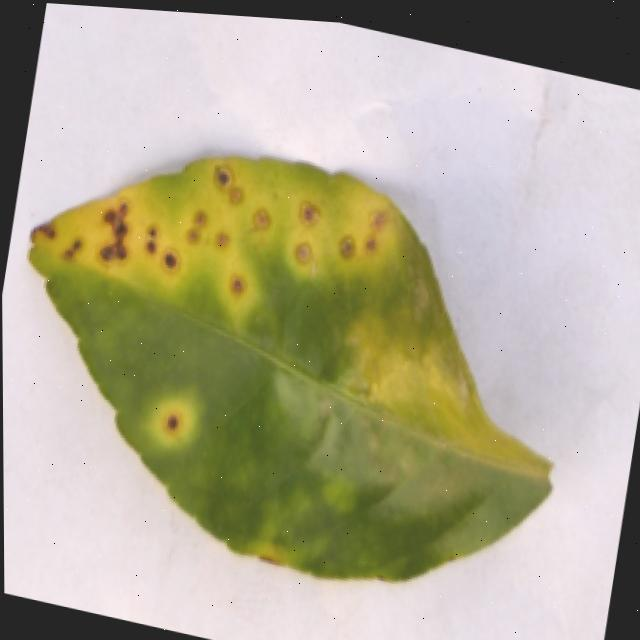canker: (32, 158, 550, 580), (3, 97, 444, 375), (130, 366, 210, 466)
